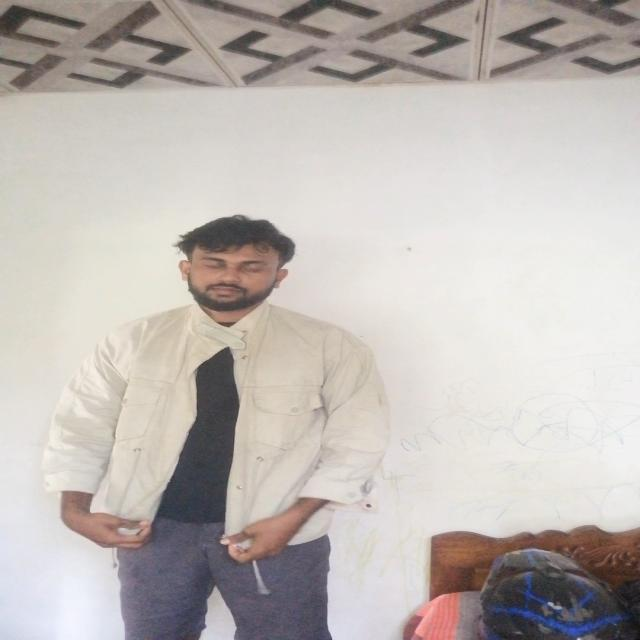Jacket_Wearer: (70, 299, 409, 570)
Person: (48, 215, 396, 640)
